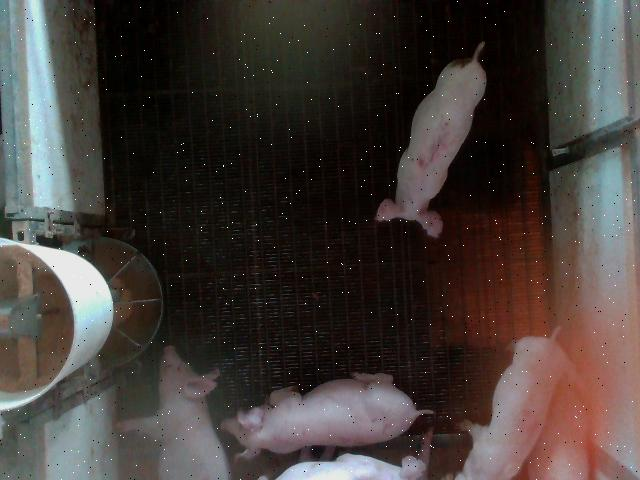pig-4: (458, 332, 569, 478)
pig-5: (375, 42, 486, 237)
